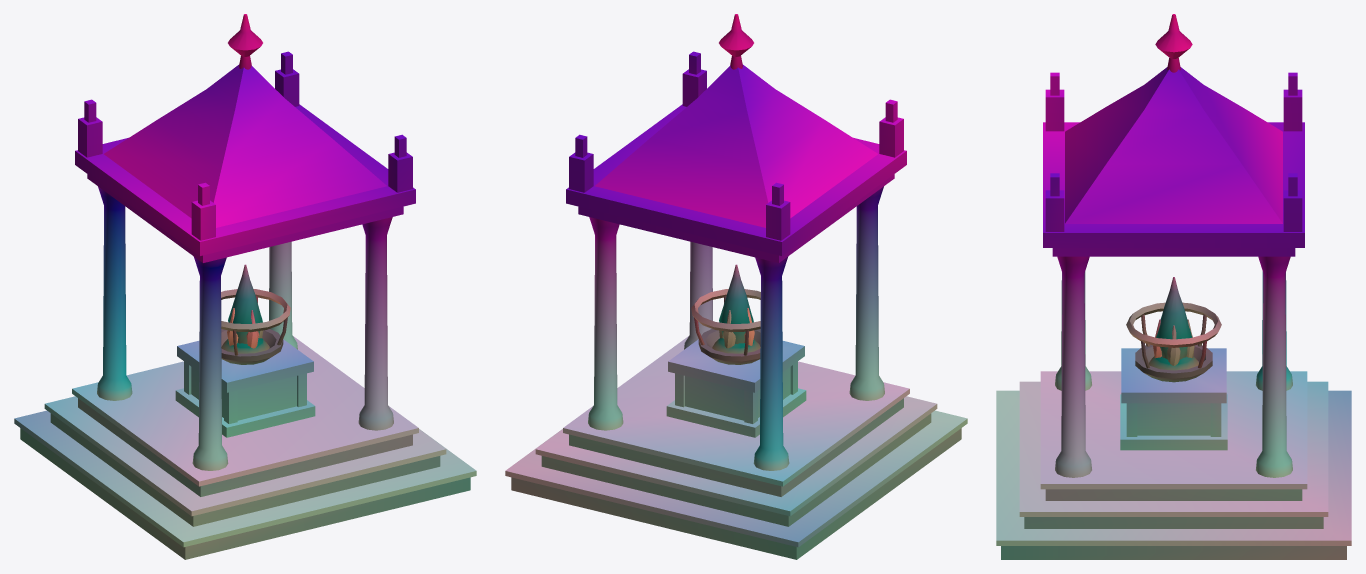
File: shrine_aedicule.glb
3 views of the same model, side by side, from view 1: azimuth 30°, elevation 25°; view 2: azimuth 150°, elevation 25°; view 3: azimuth 270°, elevation 25° (orthographic). The views are drawn at different scales.
Visible parts, largest first — view 1: shrine_treads, shrine_roof, shrine_cap, shrine_steps, shrine_altar, shrine_col, shrine_col.002, shrine_col.001, shrine_col.003, first_light_flame, light_halo, shrine_basin (+1 smaller); view 2: shrine_treads, shrine_roof, shrine_cap, shrine_steps, shrine_altar, shrine_col.001, shrine_col.003, shrine_col, shrine_col.002, first_light_flame, light_halo, shrine_basin (+1 smaller); view 3: shrine_treads, shrine_roof, shrine_cap, shrine_steps, shrine_altar, shrine_col.002, shrine_col.003, light_halo, first_light_flame, shrine_basin, shrine_finial, shrine_col (+2 smaller).
Boxes of the visible parts, left/top/right/bottom form: shrine_treads: left=14, top=336, right=476, bottom=547; shrine_roof: left=104, top=64, right=386, bottom=227; shrine_cap: left=75, top=51, right=415, bottom=262; shrine_steps: left=20, top=398, right=470, bottom=559; shrine_altar: left=175, top=339, right=315, bottom=437; shrine_col: left=192, top=256, right=228, bottom=470; shrine_col.002: left=358, top=217, right=393, bottom=430; shrine_col.001: left=97, top=186, right=132, bottom=400; shrine_col.003: left=269, top=241, right=297, bottom=349; first_light_flame: left=228, top=264, right=262, bottom=344; light_halo: left=221, top=289, right=290, bottom=332; shrine_basin: left=221, top=329, right=283, bottom=364; shrine_treads: left=505, top=336, right=967, bottom=547; shrine_roof: left=595, top=64, right=877, bottom=227; shrine_cap: left=566, top=51, right=906, bottom=262; shrine_steps: left=511, top=398, right=961, bottom=559; shrine_altar: left=666, top=339, right=806, bottom=437; shrine_col.001: left=753, top=256, right=789, bottom=470; shrine_col.003: left=588, top=217, right=623, bottom=430; shrine_col: left=849, top=186, right=884, bottom=400; shrine_col.002: left=684, top=241, right=712, bottom=349; first_light_flame: left=719, top=264, right=753, bottom=344; light_halo: left=691, top=289, right=760, bottom=332; shrine_basin: left=698, top=329, right=760, bottom=364; shrine_treads: left=996, top=371, right=1351, bottom=545; shrine_roof: left=1065, top=67, right=1282, bottom=223; shrine_cap: left=1043, top=72, right=1304, bottom=256; shrine_steps: left=1001, top=489, right=1346, bottom=559; shrine_altar: left=1120, top=348, right=1227, bottom=450; shrine_col.002: left=1055, top=256, right=1091, bottom=477; shrine_col.003: left=1256, top=256, right=1292, bottom=477; light_halo: left=1126, top=302, right=1221, bottom=347; first_light_flame: left=1156, top=277, right=1192, bottom=359; shrine_basin: left=1135, top=344, right=1212, bottom=382; shrine_finial: left=1155, top=14, right=1192, bottom=72; shrine_col: left=1055, top=271, right=1091, bottom=390.
Bounding box in the file's own units: 3.04 × 4.46 × 3.04.
